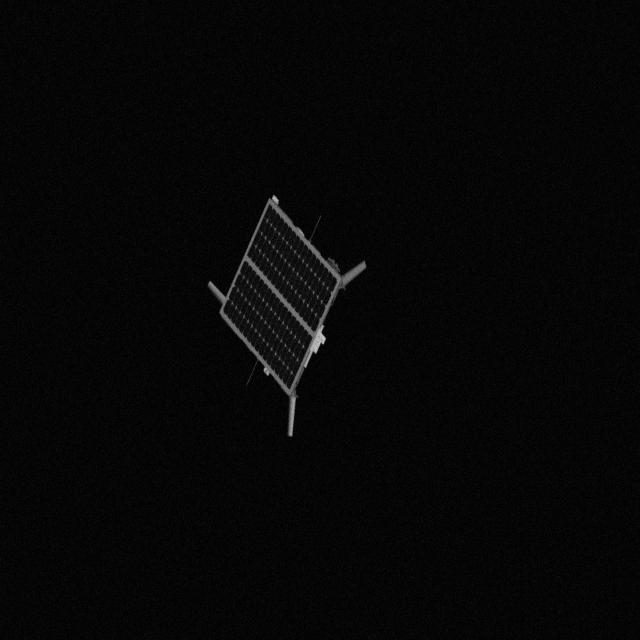medium_debris: (198, 194, 380, 438)
